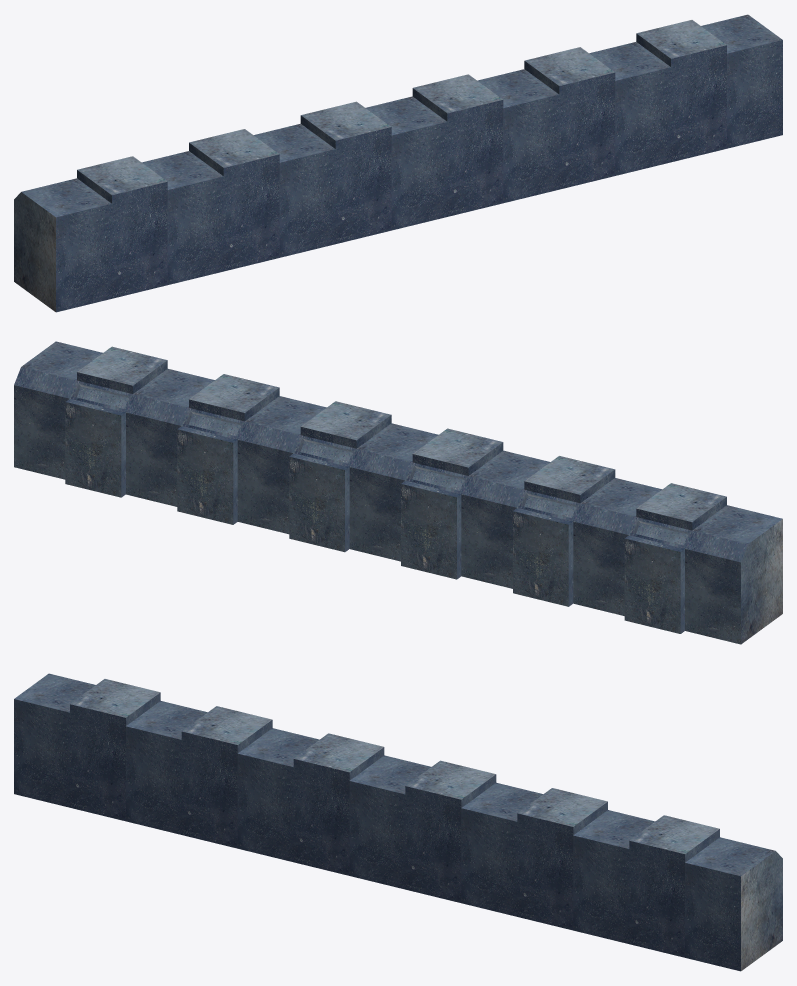
File: battleship_01.obj
3 views of the same model, one above another, from view 1: azimuth 30°, elevation 25°; view 2: azimuth 150°, elevation 25°; view 3: azimuth 330°, elevation 25° (orthographic).
Visible parts, largest first — view 1: battleship_01; view 2: battleship_01; view 3: battleship_01.
Part boxes in pixels (x1,y1,x2,y2): battleship_01: [14, 14, 782, 312]; battleship_01: [14, 341, 782, 644]; battleship_01: [14, 673, 782, 971].
Bounding box in the file's own units: 8000 × 1089 × 884.
